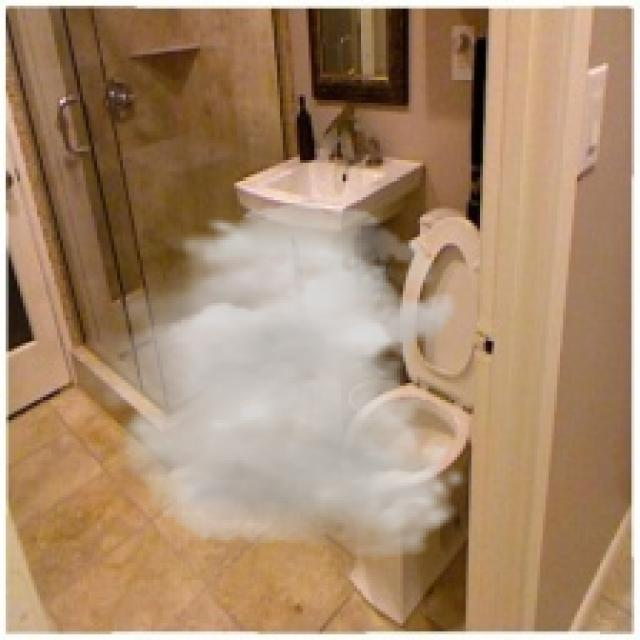smoke: (66, 203, 468, 560)
